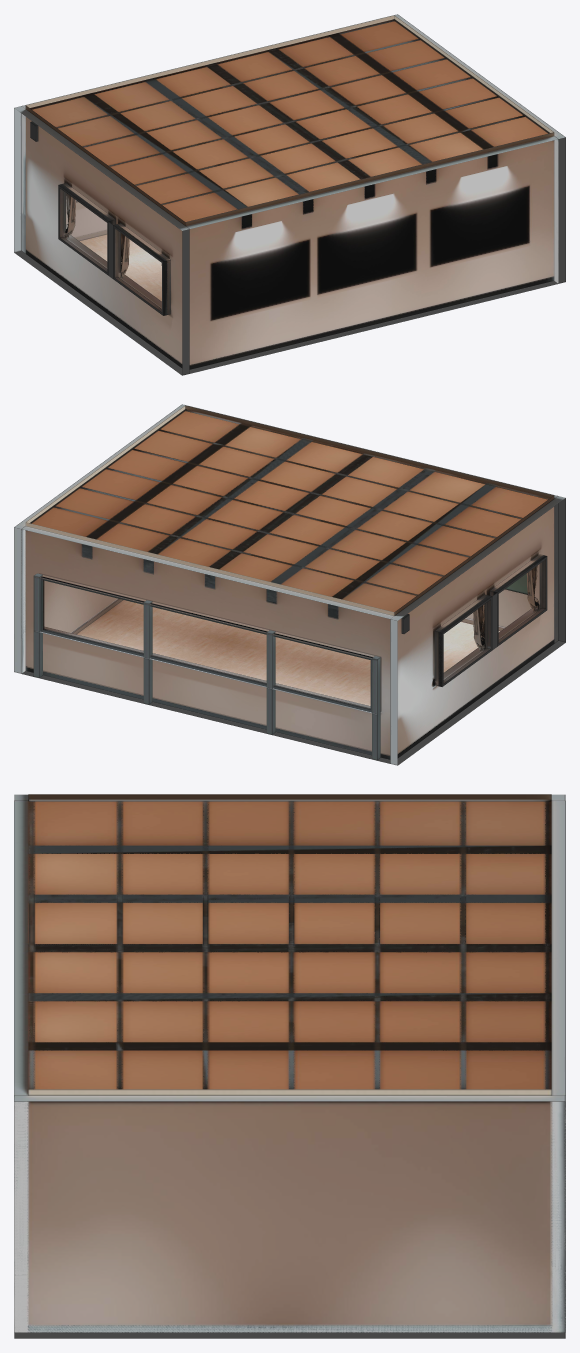
The model's file is MathClass.gltf.
3 renders of one model, top to bottom at view 1: azimuth 30°, elevation 25°; view 2: azimuth 150°, elevation 25°; view 3: azimuth 270°, elevation 25°, orthographic. The views are drawn at different scales.
Parts seen in each view (by area): view 1: MathRoom; view 2: MathRoom; view 3: MathRoom.
Part boxes in pixels (left/top/right/bottom): MathRoom: left=14, top=14, right=565, bottom=375; MathRoom: left=14, top=404, right=565, bottom=765; MathRoom: left=14, top=794, right=565, bottom=1338.
Size of the model in its own units: 8.33 by 3.08 by 6.33.
1 material, 1 textured.
